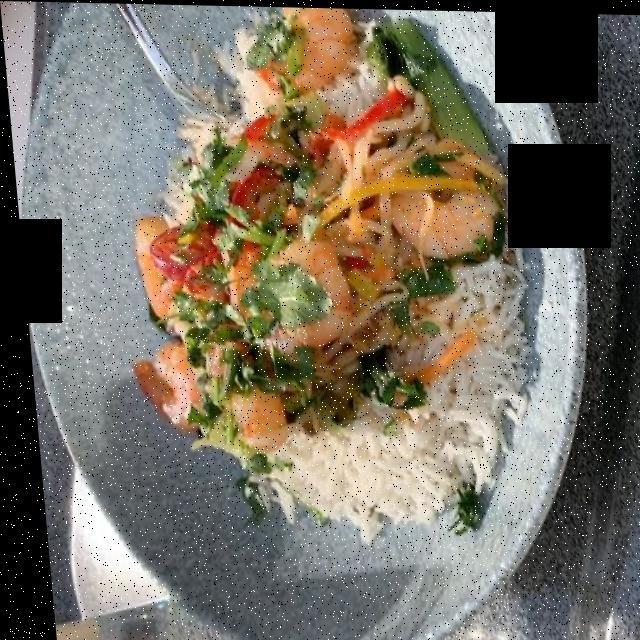mixed-vegetables: (157, 63, 464, 457)
rice: (132, 24, 523, 533)
shrimp: (127, 11, 498, 478)
